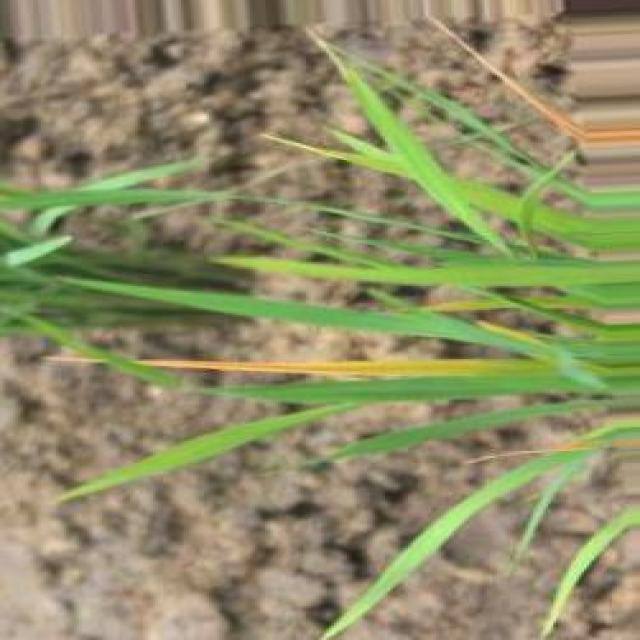Rice Tungro: (429, 15, 586, 142), (142, 359, 549, 377)
